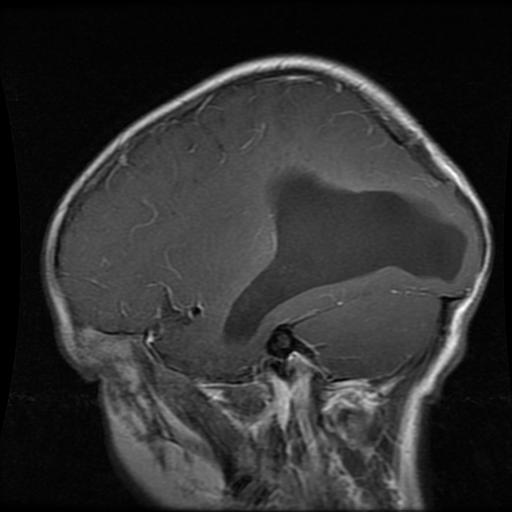Gliomia_tumour: (221, 165, 466, 341)
